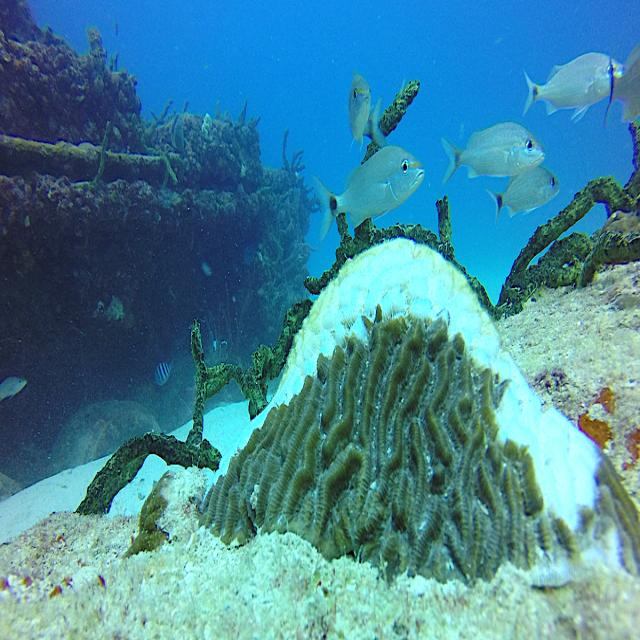Coral: (196, 238, 640, 590)
